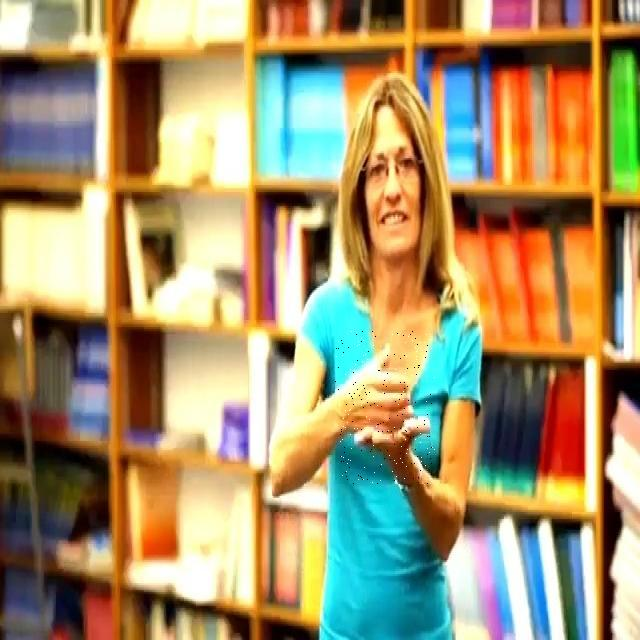cup: (336, 330, 436, 484)
